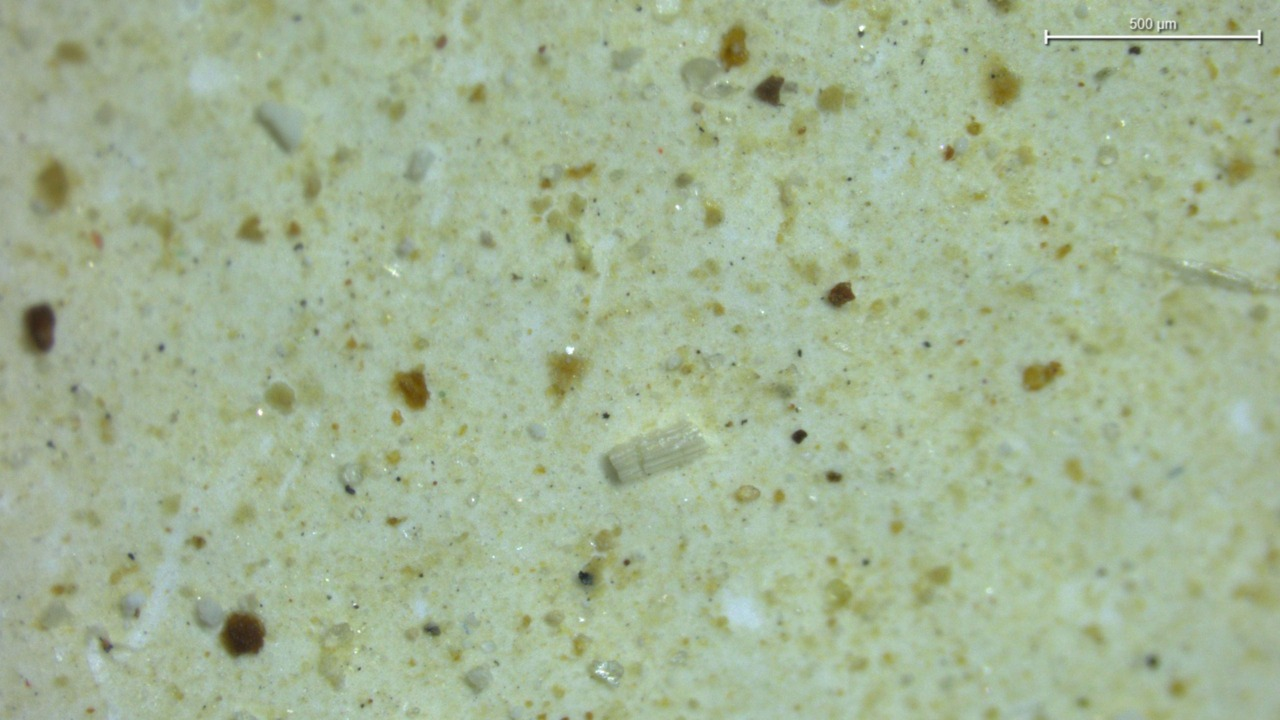microplastic_fragment: (606, 422, 708, 483)
